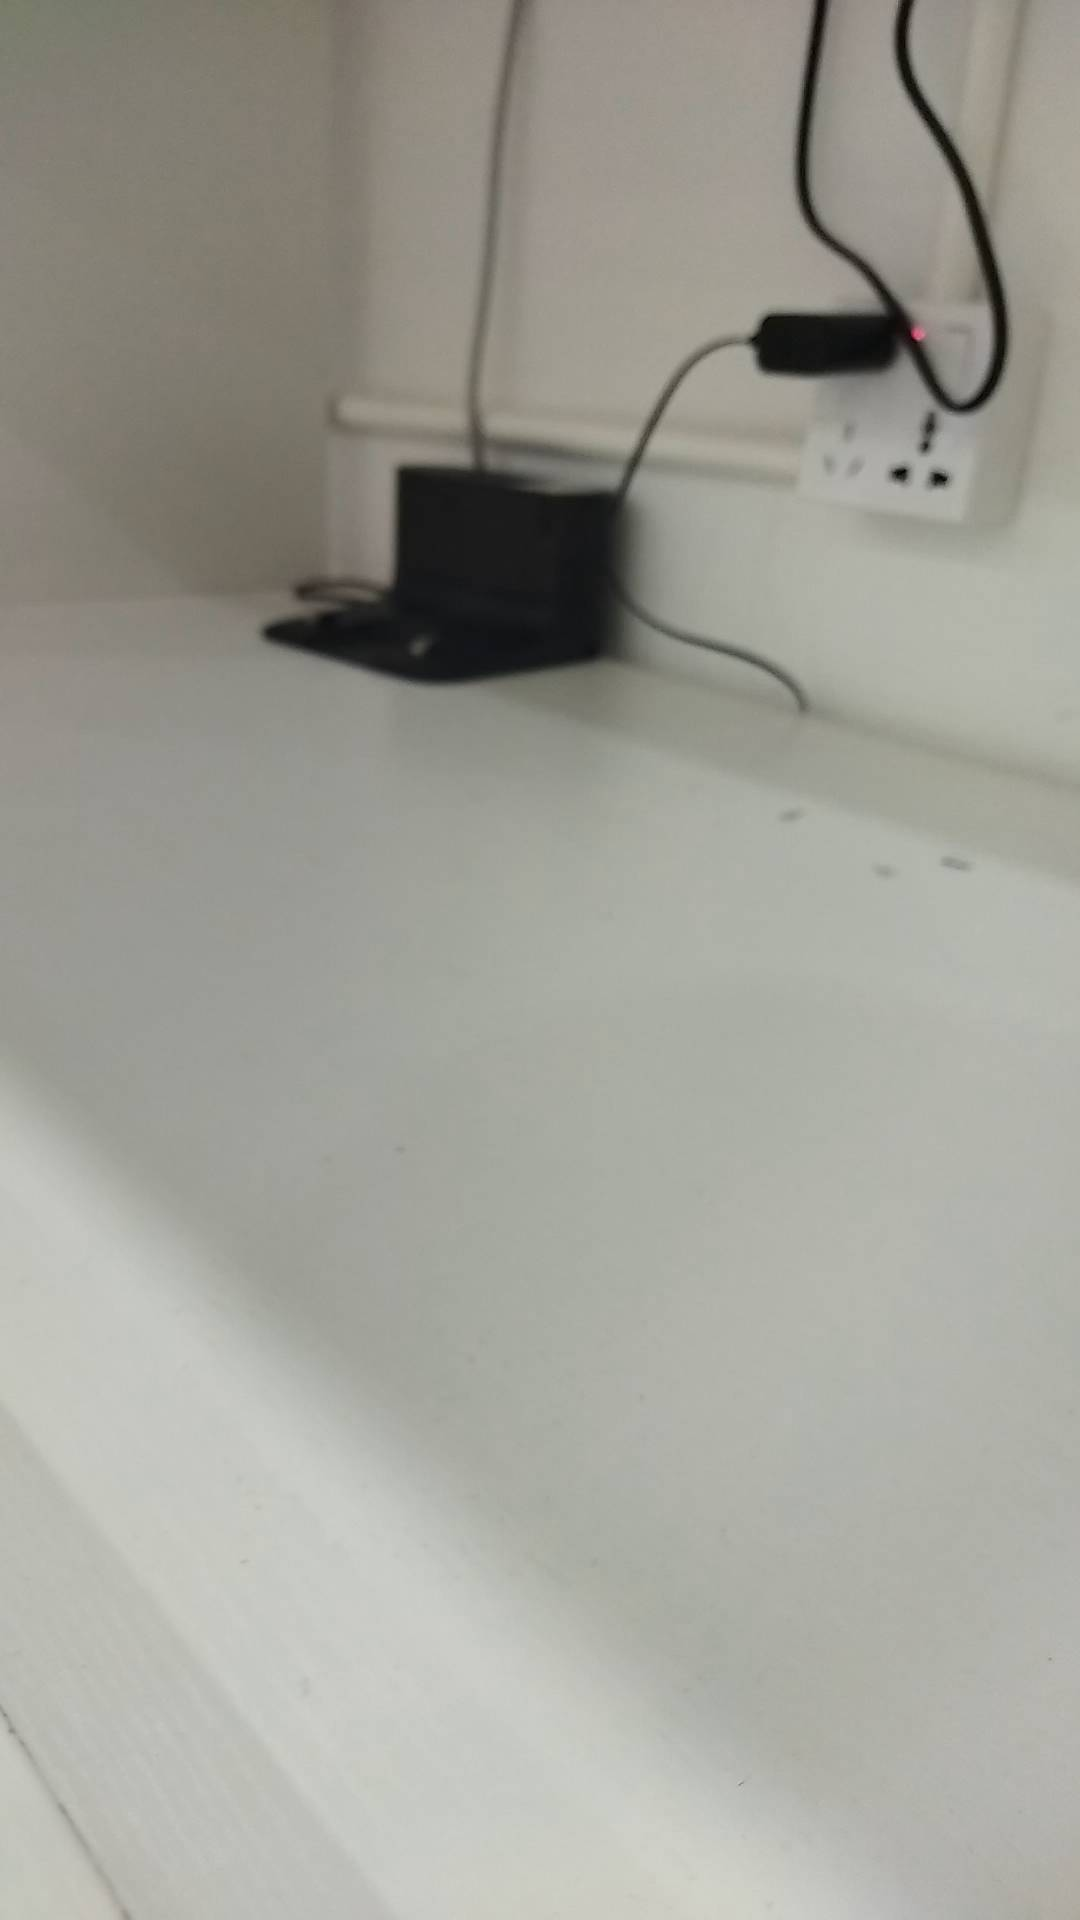recharge seat: (266, 462, 620, 684)
